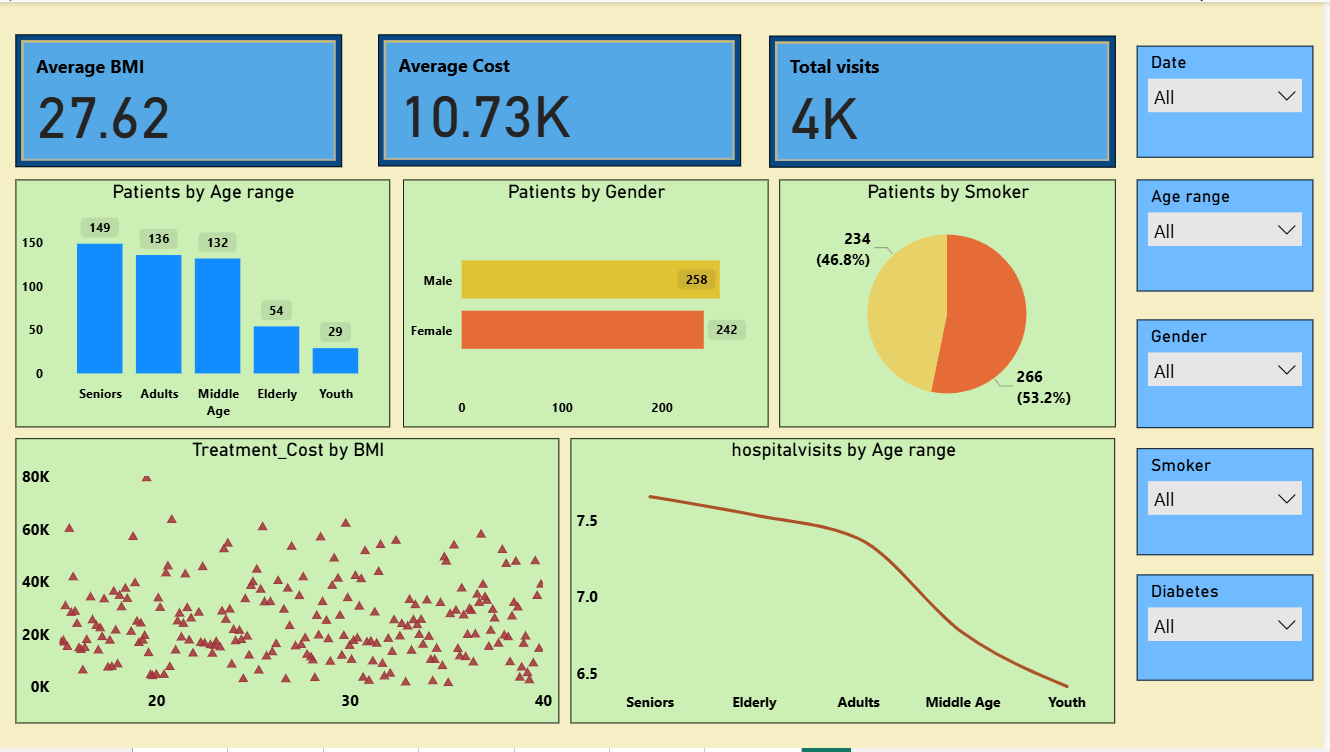

The dashboard page shown, as its layout file describes it:
{"tool":"powerbi","page":{"name":"Page 7","canvas":[1280,720],"ordinal":6},"visuals":[{"type":"slicer","fields":{"Values":["healthcare_data.Gender"]},"box":[1098.6,306.2,170.1,104.9],"z":0},{"type":"slicer","fields":{"Values":["healthcare_data.Diabetes"]},"box":[1098.6,552.8,170.1,102.1],"z":1000},{"type":"slicer","fields":{"Values":["healthcare_data.Smoker"]},"box":[1098.6,430.9,170.1,103.5],"z":2000},{"type":"cardVisual","fields":{"Data":["healthcare_data.Average BMI"]},"box":[17.3,31.7,315.4,128.2],"z":3000},{"type":"cardVisual","fields":{"Data":["healthcare_data.Average Cost"]},"box":[367.1,31.2,350.1,127.6],"z":4000},{"type":"cardVisual","fields":{"Data":["healthcare_data.Total visits"]},"box":[744.1,32.6,334.5,127.6],"z":5000},{"type":"slicer","fields":{"Values":["healthcare_data.Age range"]},"box":[1098.6,171.5,170.1,107.7],"z":6000},{"type":"columnChart","title":"Patients by Age range","fields":{"Y":["healthcare_data.Total Patients"],"Category":["healthcare_data.Range"]},"box":[17,171.5,361.5,239.6],"z":7000},{"type":"barChart","title":" Patients by Gender","fields":{"Category":["healthcare_data.Gender"],"Y":["healthcare_data.Total Patients"]},"box":[391.2,171.5,353,239.6],"z":8000},{"type":"scatterChart","title":"Treatment_Cost by BMI","fields":{"X":["healthcare_data.BMI"],"Y":["Sum(healthcare_data.Treatment_Cost)"]},"box":[17,421,524.5,275],"z":9000},{"type":"lineChart","title":"hospitalvisits by Age range","fields":{"Y":["healthcare_data.Average hospitalvisits"],"Category":["healthcare_data.Age range"]},"box":[552.8,421,525.9,275],"z":10000},{"type":"pieChart","title":"Patients by Smoker","fields":{"Category":["healthcare_data.Smoker"],"Y":["healthcare_data.Total Patients"]},"box":[754.1,171.5,324.6,239.6],"z":11000},{"type":"slicer","fields":{"Values":["date.Date"]},"box":[1098.6,42.5,170.1,107.7],"z":12000}]}

Visuals, with their boxes in screenshot pixels (x1, y1, x2, y2), scaled from the page's 1280x720 canvas onto the 1330x752 screenshot:
slicer - healthcare_data.Gender: l=1142, t=320, r=1318, b=429
slicer - healthcare_data.Diabetes: l=1142, t=577, r=1318, b=684
slicer - healthcare_data.Smoker: l=1142, t=450, r=1318, b=558
cardVisual - healthcare_data.Average BMI: l=18, t=33, r=346, b=167
cardVisual - healthcare_data.Average Cost: l=381, t=33, r=745, b=166
cardVisual - healthcare_data.Total visits: l=773, t=34, r=1121, b=167
slicer - healthcare_data.Age range: l=1142, t=179, r=1318, b=292
"Patients by Age range" columnChart: l=18, t=179, r=393, b=429
" Patients by Gender" barChart: l=406, t=179, r=773, b=429
"Treatment_Cost by BMI" scatterChart: l=18, t=440, r=563, b=727
"hospitalvisits by Age range" lineChart: l=574, t=440, r=1121, b=727
"Patients by Smoker" pieChart: l=784, t=179, r=1121, b=429
slicer - date.Date: l=1142, t=44, r=1318, b=157
